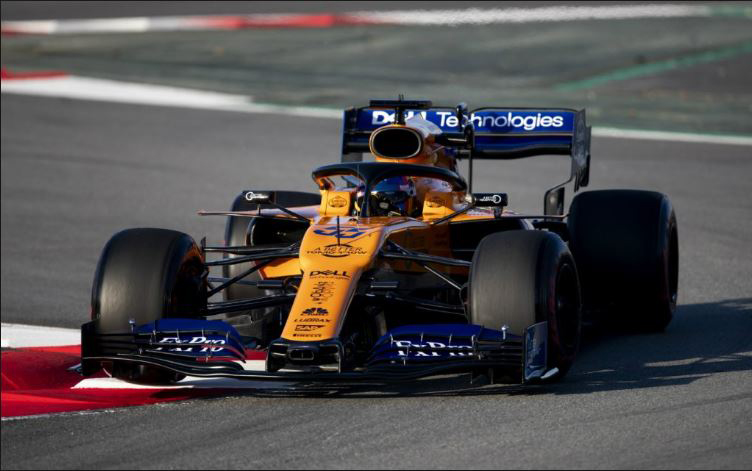F1 Car: (62, 89, 684, 391)
